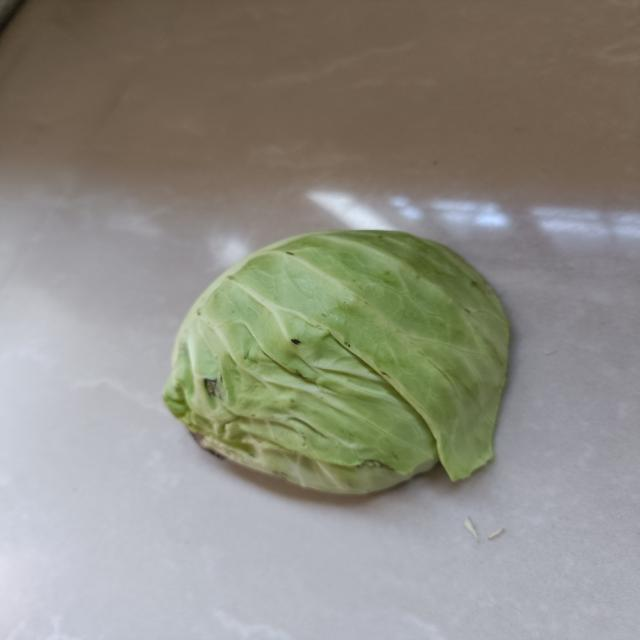cabbage: (156, 223, 521, 498)
